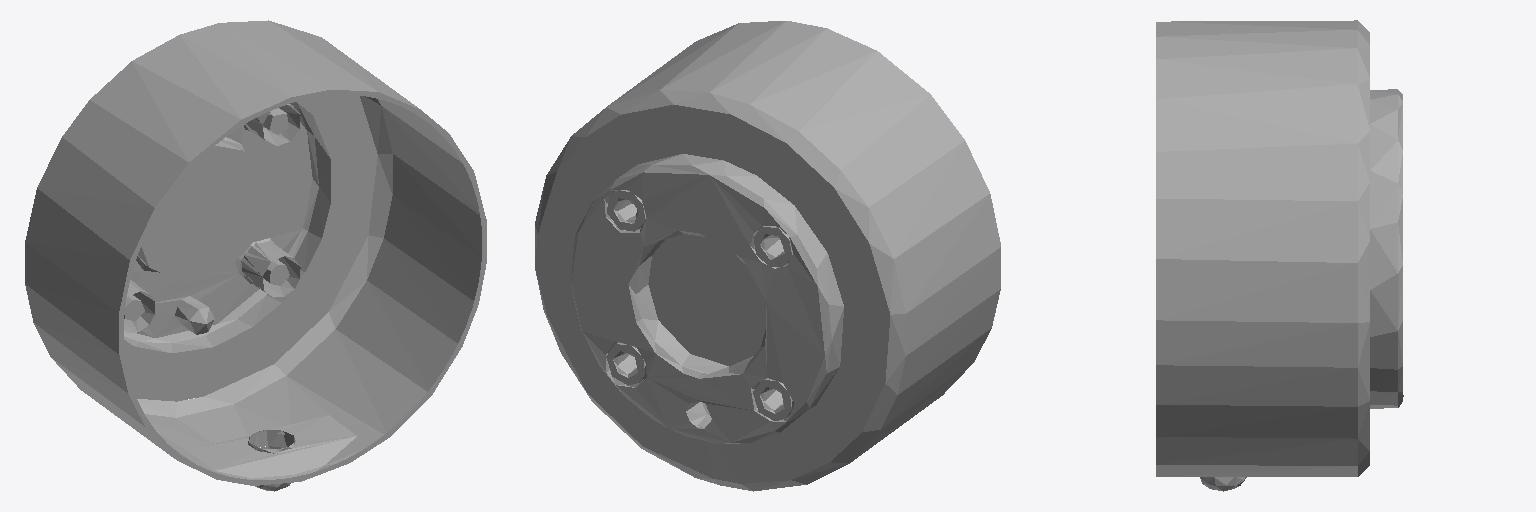
The robot description file, URDF, robot "ur10e_robot":
<?xml version="1.0" encoding="utf-8"?>
<robot name="ur10e_robot">
  <link name="base_link"/>
  <link name="base_link_inertia">
    <visual>
      <origin xyz="0.0 0.0 0.0" rpy="0.0 0.0 3.141592653589793"/>
      <geometry>
        <mesh filename="package://ur_description/meshes/ur10e/visual/base.obj"/>
      </geometry>
      <material name="LightGrey">
        <color rgba="0.7 0.7 0.7 1.0"/>
      </material>
    </visual>
    <collision>
      <origin xyz="0.0 0.0 0.0" rpy="0.0 0.0 3.141592653589793"/>
      <geometry>
        <mesh filename="package://ur_description/meshes/ur10e/collision/base.stl"/>
      </geometry>
    </collision>
    <inertial>
      <origin xyz="0.0 0.0 0.0" rpy="0.0 0.0 0.0"/>
      <mass value="4.0"/>
      <inertia ixx="0.0061063308908" ixy="0.0" ixz="0.0" iyy="0.0061063308908" iyz="0.0" izz="0.01125"/>
    </inertial>
  </link>
  <link name="shoulder_link">
    <visual>
      <origin xyz="0.0 0.0 0.0" rpy="0.0 0.0 3.141592653589793"/>
      <geometry>
        <mesh filename="package://ur_description/meshes/ur10e/visual/shoulder.obj"/>
      </geometry>
      <material name="LightGrey">
        <color rgba="0.7 0.7 0.7 1.0"/>
      </material>
    </visual>
    <collision>
      <origin xyz="0.0 0.0 0.0" rpy="0.0 0.0 3.141592653589793"/>
      <geometry>
        <mesh filename="package://ur_description/meshes/ur10e/collision/shoulder.stl"/>
      </geometry>
    </collision>
    <inertial>
      <origin xyz="0.0 0.0 0.0" rpy="0.0 0.0 0.0"/>
      <mass value="7.778"/>
      <inertia ixx="0.03147431257693659" ixy="0.0" ixz="0.0" iyy="0.03147431257693659" iyz="0.0" izz="0.021875624999999996"/>
    </inertial>
  </link>
  <link name="upper_arm_link">
    <visual>
      <origin xyz="0.0 0.0 0.1762" rpy="1.5707963267948966 0.0 -1.5707963267948966"/>
      <geometry>
        <mesh filename="package://ur_description/meshes/ur10e/visual/upperarm.obj"/>
      </geometry>
      <material name="LightGrey">
        <color rgba="0.7 0.7 0.7 1.0"/>
      </material>
    </visual>
    <collision>
      <origin xyz="0.0 0.0 0.1762" rpy="1.5707963267948966 0.0 -1.5707963267948966"/>
      <geometry>
        <mesh filename="package://ur_description/meshes/ur10e/collision/upperarm.stl"/>
      </geometry>
    </collision>
    <inertial>
      <origin xyz="-0.306 0.0 0.175" rpy="0.0 1.5707963267948966 0.0"/>
      <mass value="12.93"/>
      <inertia ixx="0.42175380379841093" ixy="0.0" ixz="0.0" iyy="0.42175380379841093" iyz="0.0" izz="0.03636562499999999"/>
    </inertial>
  </link>
  <link name="forearm_link">
    <visual>
      <origin xyz="0.0 0.0 0.0393" rpy="1.5707963267948966 0.0 -1.5707963267948966"/>
      <geometry>
        <mesh filename="package://ur_description/meshes/ur10e/visual/forearm.obj"/>
      </geometry>
      <material name="LightGrey">
        <color rgba="0.7 0.7 0.7 1.0"/>
      </material>
    </visual>
    <collision>
      <origin xyz="0.0 0.0 0.0393" rpy="1.5707963267948966 0.0 -1.5707963267948966"/>
      <geometry>
        <mesh filename="package://ur_description/meshes/ur10e/collision/forearm.stl"/>
      </geometry>
    </collision>
    <inertial>
      <origin xyz="-0.285775 0.0 0.0393" rpy="0.0 1.5707963267948966 0.0"/>
      <mass value="3.87"/>
      <inertia ixx="0.11079302548902206" ixy="0.0" ixz="0.0" iyy="0.11079302548902206" iyz="0.0" izz="0.010884375"/>
    </inertial>
  </link>
  <link name="wrist_1_link">
    <visual>
      <origin xyz="0.0 0.0 -0.135" rpy="1.5707963267948966 0.0 0.0"/>
      <geometry>
        <mesh filename="package://ur_description/meshes/ur10e/visual/wrist1.obj"/>
      </geometry>
      <material name="LightGrey">
        <color rgba="0.7 0.7 0.7 1.0"/>
      </material>
    </visual>
    <collision>
      <origin xyz="0.0 0.0 -0.135" rpy="1.5707963267948966 0.0 0.0"/>
      <geometry>
        <mesh filename="package://ur_description/meshes/ur10e/collision/wrist1.stl"/>
      </geometry>
    </collision>
    <inertial>
      <origin xyz="0.0 0.0 0.0" rpy="0.0 0.0 0.0"/>
      <mass value="1.96"/>
      <inertia ixx="0.005108247956699999" ixy="0.0" ixz="0.0" iyy="0.005108247956699999" iyz="0.0" izz="0.005512499999999999"/>
    </inertial>
  </link>
  <link name="wrist_2_link">
    <visual>
      <origin xyz="0.0 0.0 -0.12" rpy="0.0 0.0 0.0"/>
      <geometry>
        <mesh filename="package://ur_description/meshes/ur10e/visual/wrist2.obj"/>
      </geometry>
      <material name="LightGrey">
        <color rgba="0.7 0.7 0.7 1.0"/>
      </material>
    </visual>
    <collision>
      <origin xyz="0.0 0.0 -0.12" rpy="0.0 0.0 0.0"/>
      <geometry>
        <mesh filename="package://ur_description/meshes/ur10e/collision/wrist2.stl"/>
      </geometry>
    </collision>
    <inertial>
      <origin xyz="0.0 0.0 0.0" rpy="0.0 0.0 0.0"/>
      <mass value="1.96"/>
      <inertia ixx="0.005108247956699999" ixy="0.0" ixz="0.0" iyy="0.005108247956699999" iyz="0.0" izz="0.005512499999999999"/>
    </inertial>
  </link>
  <link name="wrist_3_link">
    <visual>
      <origin xyz="0.0 0.0 -0.1168" rpy="1.5707963267948966 0.0 0.0"/>
      <geometry>
        <mesh filename="package://ur_description/meshes/ur10e/visual/wrist3.obj"/>
      </geometry>
      <material name="LightGrey">
        <color rgba="0.7 0.7 0.7 1.0"/>
      </material>
    </visual>
    <collision>
      <origin xyz="0.0 0.0 -0.1168" rpy="1.5707963267948966 0.0 0.0"/>
      <geometry>
        <mesh filename="package://ur_description/meshes/ur10e/collision/wrist3.stl"/>
      </geometry>
    </collision>
    <inertial>
      <origin xyz="0.0 0.0 -0.025" rpy="0.0 0.0 0.0"/>
      <mass value="0.202"/>
      <inertia ixx="0.00014434577559500002" ixy="0.0" ixz="0.0" iyy="0.00014434577559500002" iyz="0.0" izz="0.00020452500000000002"/>
    </inertial>
  </link>
  <link name="base"/>
  <link name="flange"/>
  <link name="tool0"/>
  <joint name="base_link-base_link_inertia" type="fixed">
    <parent link="base_link"/>
    <child link="base_link_inertia"/>
    <axis xyz="1.0 0.0 0.0"/>
    <origin xyz="0.0 0.0 0.0" rpy="0.0 0.0 3.141592653589793"/>
  </joint>
  <joint name="shoulder_pan_joint" type="revolute">
    <parent link="base_link_inertia"/>
    <child link="shoulder_link"/>
    <axis xyz="0.0 0.0 1.0"/>
    <dynamics damping="0.0" friction="0.0"/>
    <limit lower="-6.283185307179586" upper="6.283185307179586" effort="330.0" velocity="2.0943951023931953"/>
    <origin xyz="0.0 0.0 0.1807" rpy="0.0 0.0 0.0"/>
  </joint>
  <joint name="shoulder_lift_joint" type="revolute">
    <parent link="shoulder_link"/>
    <child link="upper_arm_link"/>
    <axis xyz="0.0 0.0 1.0"/>
    <dynamics damping="0.0" friction="0.0"/>
    <limit lower="-6.283185307179586" upper="6.283185307179586" effort="330.0" velocity="2.0943951023931953"/>
    <origin xyz="0.0 0.0 0.0" rpy="1.570796327 0.0 0.0"/>
  </joint>
  <joint name="elbow_joint" type="revolute">
    <parent link="upper_arm_link"/>
    <child link="forearm_link"/>
    <axis xyz="0.0 0.0 1.0"/>
    <dynamics damping="0.0" friction="0.0"/>
    <limit lower="-3.141592653589793" upper="3.141592653589793" effort="150.0" velocity="3.141592653589793"/>
    <origin xyz="-0.6127 0.0 0.0" rpy="0.0 0.0 0.0"/>
  </joint>
  <joint name="wrist_1_joint" type="revolute">
    <parent link="forearm_link"/>
    <child link="wrist_1_link"/>
    <axis xyz="0.0 0.0 1.0"/>
    <dynamics damping="0.0" friction="0.0"/>
    <limit lower="-6.283185307179586" upper="6.283185307179586" effort="56.0" velocity="3.141592653589793"/>
    <origin xyz="-0.57155 0.0 0.17415" rpy="0.0 0.0 0.0"/>
  </joint>
  <joint name="wrist_2_joint" type="revolute">
    <parent link="wrist_1_link"/>
    <child link="wrist_2_link"/>
    <axis xyz="0.0 0.0 1.0"/>
    <dynamics damping="0.0" friction="0.0"/>
    <limit lower="-6.283185307179586" upper="6.283185307179586" effort="56.0" velocity="3.141592653589793"/>
    <origin xyz="0.0 -0.11985 -2.458164590756244e-11" rpy="1.570796327 0.0 0.0"/>
  </joint>
  <joint name="wrist_3_joint" type="revolute">
    <parent link="wrist_2_link"/>
    <child link="wrist_3_link"/>
    <axis xyz="0.0 0.0 1.0"/>
    <dynamics damping="0.0" friction="0.0"/>
    <limit lower="-6.283185307179586" upper="6.283185307179586" effort="56.0" velocity="3.141592653589793"/>
    <origin xyz="0.0 0.11655 -2.390480459346185e-11" rpy="-1.5707963270000003 1.2246467991473532e-16 -1.2246467991473532e-16"/>
  </joint>
  <joint name="base_link-base_fixed_joint" type="fixed">
    <parent link="base_link"/>
    <child link="base"/>
    <axis xyz="1.0 0.0 0.0"/>
    <origin xyz="0.0 0.0 0.0" rpy="0.0 0.0 3.141592653589793"/>
  </joint>
  <joint name="wrist_3-flange" type="fixed">
    <parent link="wrist_3_link"/>
    <child link="flange"/>
    <axis xyz="1.0 0.0 0.0"/>
    <origin xyz="0.0 0.0 0.0" rpy="-1.5707963267948966 -1.5707963267948966 0.0"/>
  </joint>
  <joint name="flange-tool0" type="fixed">
    <parent link="flange"/>
    <child link="tool0"/>
    <axis xyz="1.0 0.0 0.0"/>
    <origin xyz="0.0 0.0 0.0" rpy="1.5707963267948966 0.0 1.5707963267948966"/>
  </joint>
  <transmission name="wrist_3_trans">
    <type>transmission_interface/SimpleTransmission</type>
    <joint name="wrist_3_joint">
      <hardwareInterface>hardware_interface/PositionJointInterface</hardwareInterface>
    </joint>
    <actuator name="wrist_3_motor">
      <mechanicalReduction>1</mechanicalReduction>
    </actuator>
  </transmission>
</robot>

--- What the picture shows (computed from the rendered views, not written in the file) ---
The picture shows the robot from 3 angles, left to right: view 1: azimuth 30°, elevation 25°; view 2: azimuth 150°, elevation 25°; view 3: azimuth 270°, elevation 25°; orthographic projection.
Model ur10e_robot with 11 links and 10 joints (6 revolute, 4 fixed), rooted at base_link, posed every joint at zero.
Visible links, largest first — view 1: wrist_3_link; view 2: wrist_3_link; view 3: wrist_3_link.
Link boxes in pixels (left/top/right/bottom): wrist_3_link: left=25, top=20, right=486, bottom=491; wrist_3_link: left=535, top=21, right=1000, bottom=491; wrist_3_link: left=1156, top=20, right=1403, bottom=491.
Bounding box of the posed robot: 0.0897 × 0.0488 × 0.0966 m (x, y, z).
Meshes: 7 distinct files referenced, 1 mesh visuals loaded (1 OBJ); not drawn: 6 (reference not matched to a file when rendering).